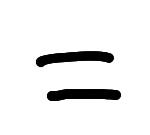eqv: (31, 47, 124, 103)
